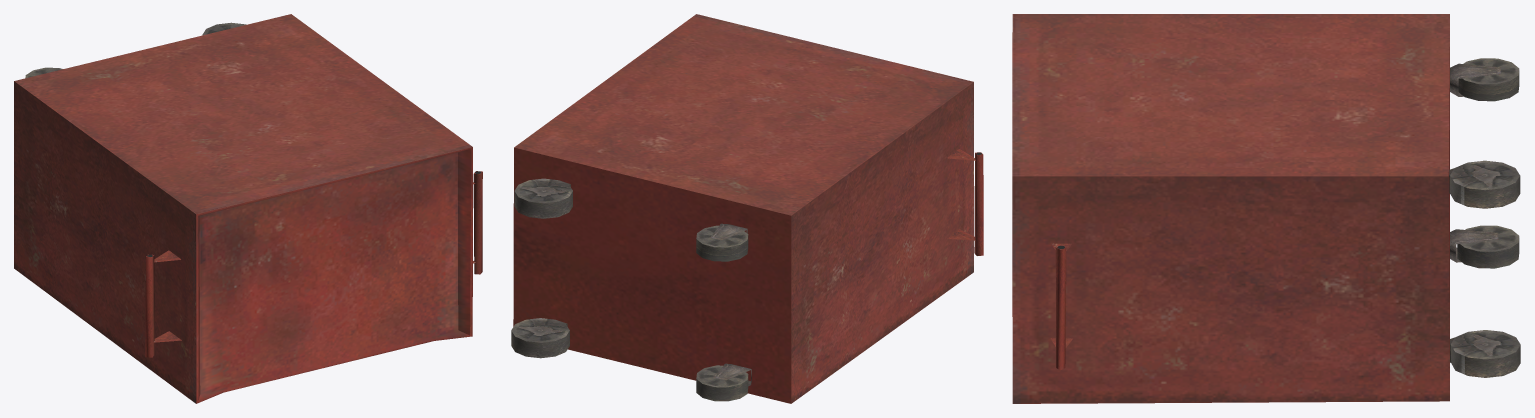
File: p_glo_tool_chest_LOD0.obj
3 renders of one model, left to right at view 1: azimuth 30°, elevation 25°; view 2: azimuth 150°, elevation 25°; view 3: azimuth 270°, elevation 25°, orthographic. The views are drawn at different scales.
Visible parts, largest first — view 1: mtl_p_glo_tool_chest; view 2: mtl_p_glo_tool_chest; view 3: mtl_p_glo_tool_chest.
Boxes of the visible parts, x1,y1,x2,y2 form: mtl_p_glo_tool_chest: (14, 14, 482, 403); mtl_p_glo_tool_chest: (511, 14, 983, 403); mtl_p_glo_tool_chest: (1012, 14, 1520, 403).
Size of the model in its own units: 125 by 68.24 by 136.
